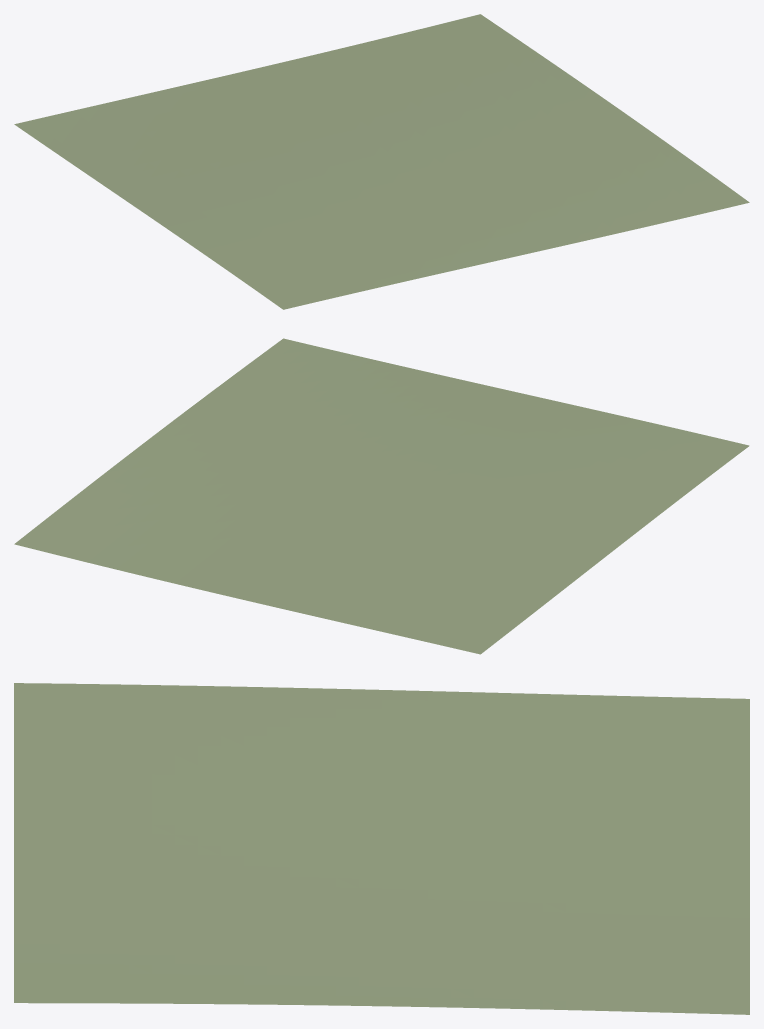
File: expanse-20-28.glb
The picture shows the model from 3 angles, top to bottom: view 1: azimuth 30°, elevation 25°; view 2: azimuth 150°, elevation 25°; view 3: azimuth 270°, elevation 25°; orthographic projection. The views are drawn at different scales.
Visible parts, largest first — view 1: expanse-20-28; view 2: expanse-20-28; view 3: expanse-20-28.
Part boxes in pixels (<box>): expanse-20-28: <box>14,14,749,309</box>; expanse-20-28: <box>14,338,749,654</box>; expanse-20-28: <box>14,683,749,1014</box>.
Size of the model in its own units: 256 by 8.19 by 256.
